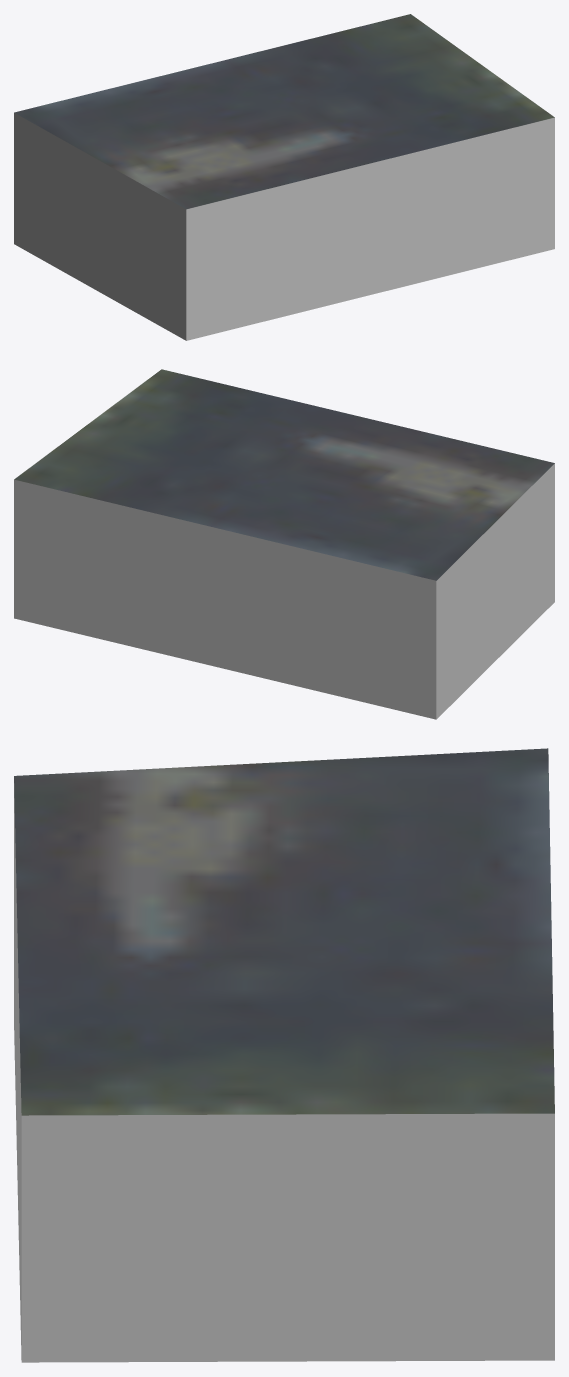
Rendered from DEBW_0010007Tvjb.gltf.
3 renders of one model, top to bottom at view 1: azimuth 30°, elevation 25°; view 2: azimuth 150°, elevation 25°; view 3: azimuth 270°, elevation 25°, orthographic. The views are drawn at different scales.
Visible parts, largest first — view 1: Z_UP; view 2: Z_UP; view 3: Z_UP.
Boxes of the visible parts, x1=… form: Z_UP: x1=14, y1=14, x2=554, y2=340; Z_UP: x1=14, y1=369, x2=554, y2=719; Z_UP: x1=14, y1=748, x2=554, y2=1362.
Size of the model in its own units: 9.2 by 2.89 by 5.73.
2 materials, 1 textured.
